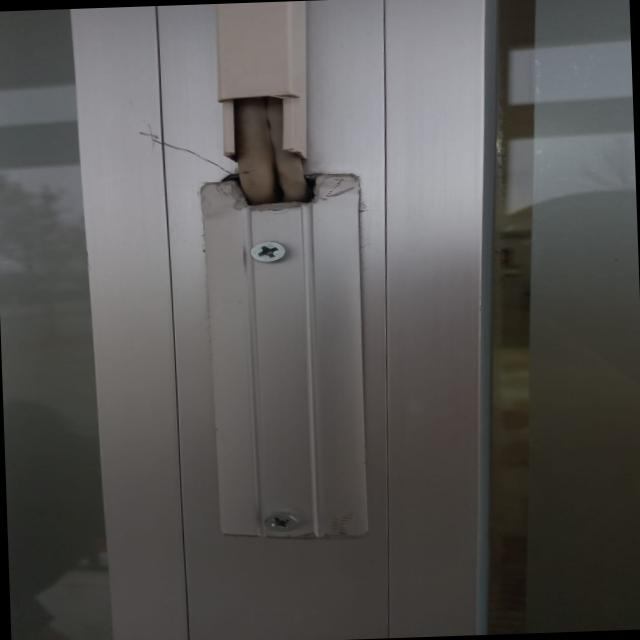Phillips: (253, 510, 314, 541), (240, 238, 298, 268)
